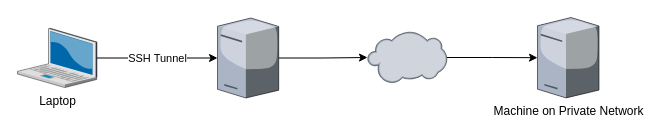
The diagram is 660 pixels wide and 136 high, and some of its shapes have lost their labels. Each missing label, with the centre of its shape:
"VM" goes at (247,58).
"VPN" goes at (406,57).
